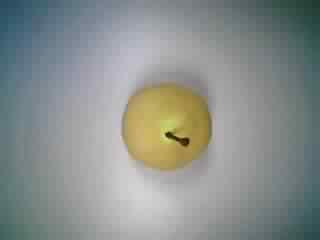pear: (112, 73, 219, 185)
